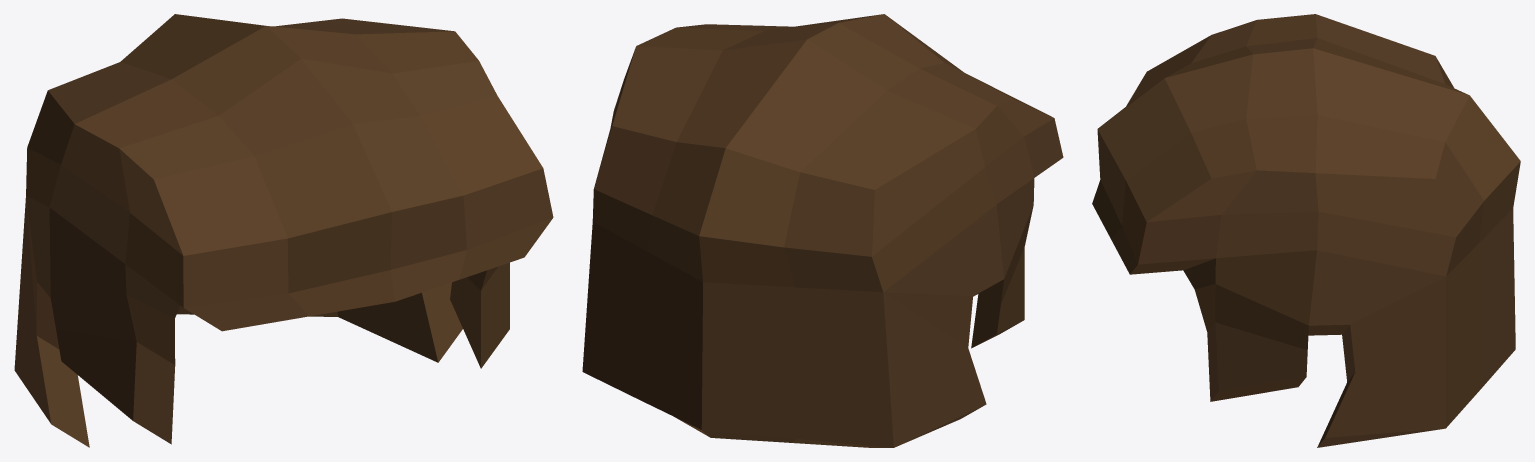
Rendered from Hairstyle F.fbx.
3 views of the same model, side by side, from view 1: azimuth 30°, elevation 25°; view 2: azimuth 150°, elevation 25°; view 3: azimuth 270°, elevation 25° (orthographic). The views are drawn at different scales.
Parts seen in each view (by area): view 1: Male Apron.005; view 2: Male Apron.005; view 3: Male Apron.005.
Part boxes in pixels (x1,y1,x2,y2): Male Apron.005: (14,14,553,447); Male Apron.005: (582,14,1063,447); Male Apron.005: (1092,14,1520,447).
Size of the model in its own units: 23.37 by 19.51 by 23.2.
